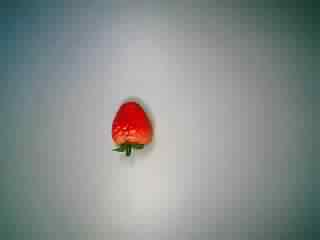strawberry: (94, 96, 160, 162)
